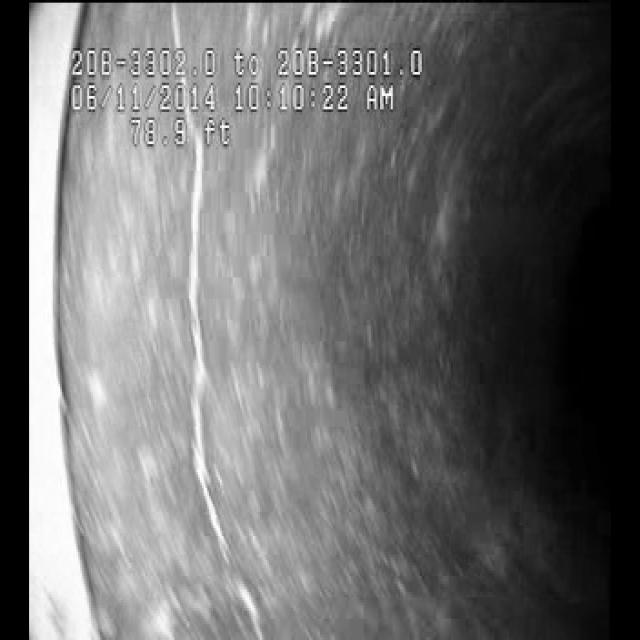Crack: (171, 163, 260, 594)
